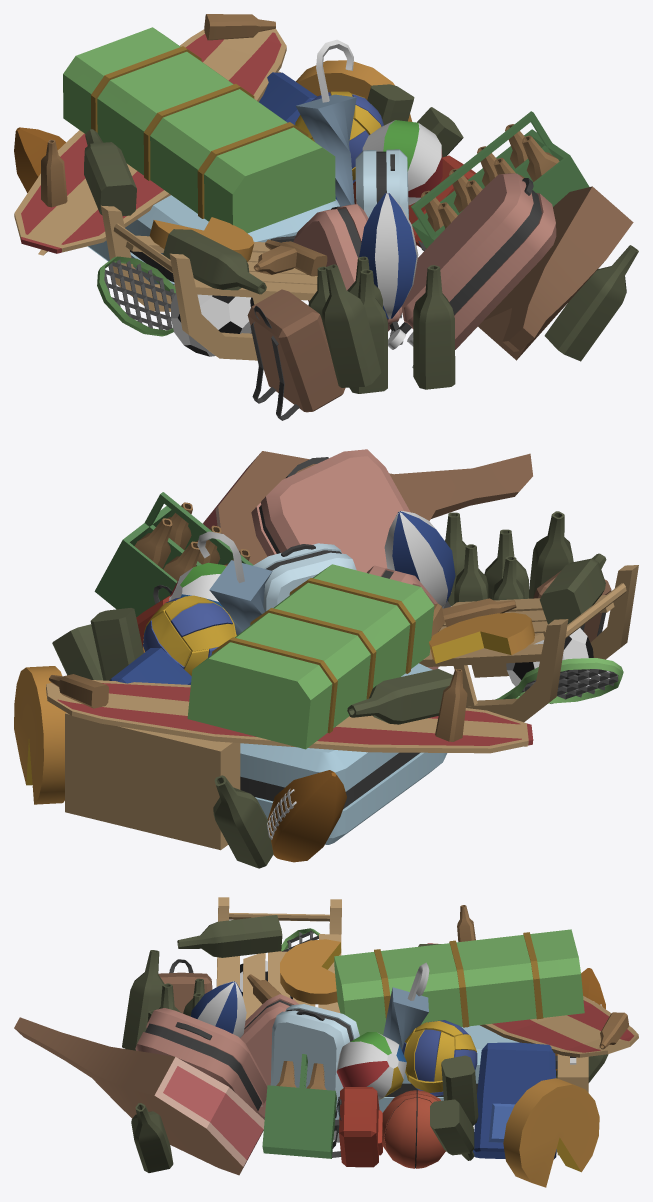
Rendered from Groupe_Bagage_20.fbx.
The picture shows the model from 3 angles, top to bottom: view 1: azimuth 30°, elevation 25°; view 2: azimuth 150°, elevation 25°; view 3: azimuth 270°, elevation 25°; orthographic projection. The views are drawn at different scales.
Parts seen in each view (by area): view 1: Groupe_Bagage_20; view 2: Groupe_Bagage_20; view 3: Groupe_Bagage_20.
Boxes of the visible parts, x1,y1,x2,y2 form: Groupe_Bagage_20: (14, 14, 638, 420); Groupe_Bagage_20: (14, 449, 638, 868); Groupe_Bagage_20: (14, 897, 638, 1187).
Size of the model in its own units: 250 by 112 by 340.
1 material, 1 textured.
